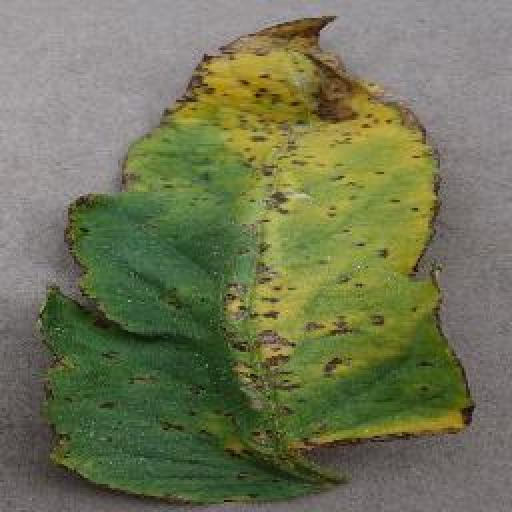Bacterial Spot: (33, 12, 476, 512)
